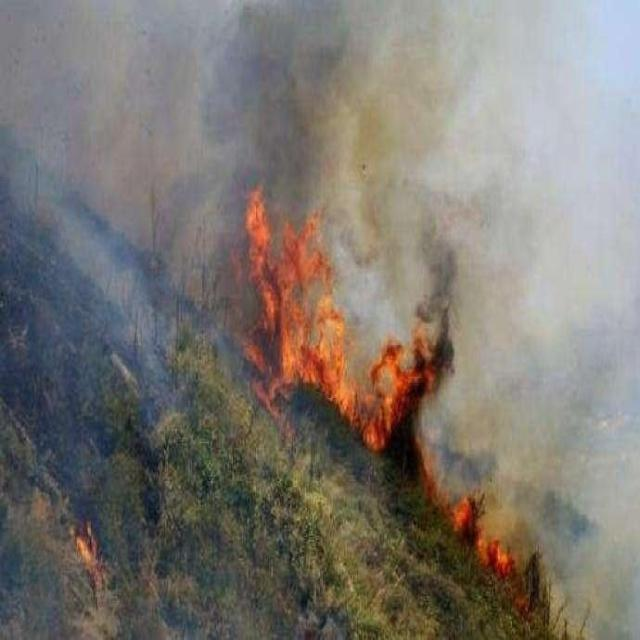fire: (234, 182, 347, 404), (342, 318, 434, 458), (434, 474, 516, 576)
smoke: (52, 24, 398, 194)
